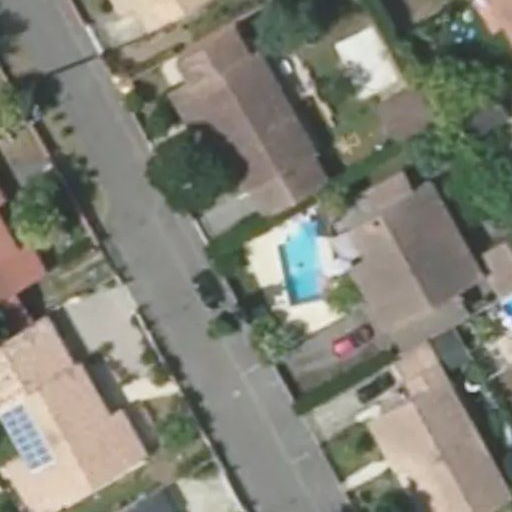pool: (228, 214, 283, 269)
